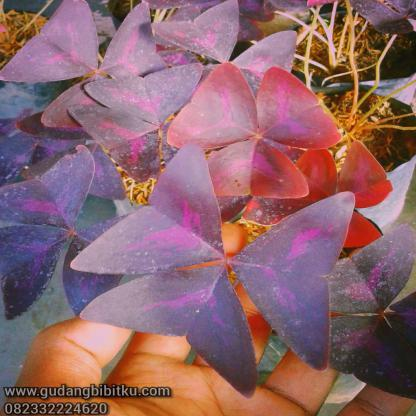Kupu-Kupu: (123, 170, 335, 385), (29, 25, 194, 157), (4, 163, 123, 331), (188, 71, 323, 201), (325, 235, 414, 404)
